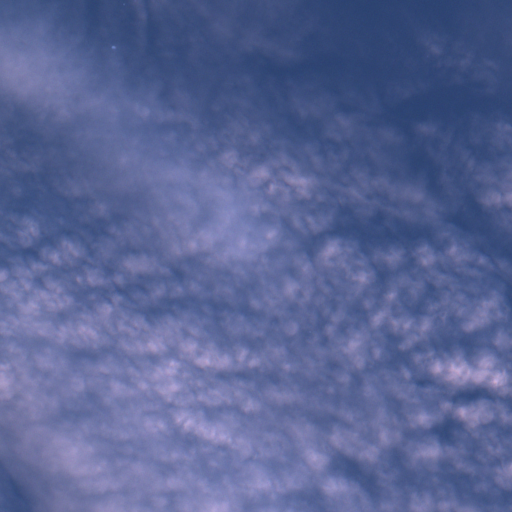Iceberg: (112, 46, 115, 48)
